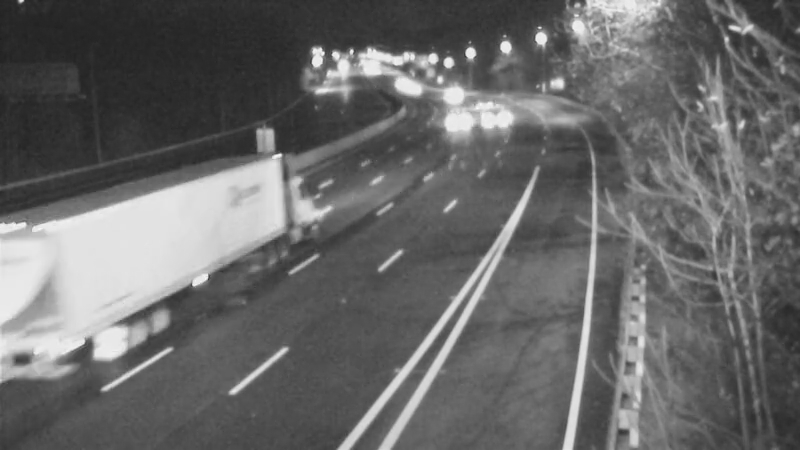vehicle: (154, 182, 234, 262), (370, 59, 420, 109), (390, 66, 440, 116), (421, 70, 471, 120), (456, 82, 506, 132), (468, 92, 518, 142), (434, 93, 484, 143)
